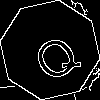Q: (25, 25, 84, 87)
